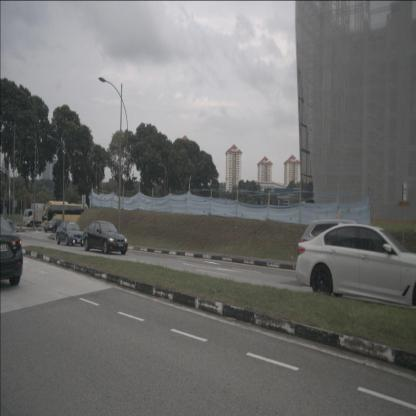vehicle-bus-rigid: (41, 200, 88, 230)
vehicle-car: (295, 223, 416, 309), (0, 216, 23, 286), (82, 220, 128, 255), (56, 220, 83, 247), (44, 218, 66, 234)
vehicle-truck: (23, 203, 53, 227)
